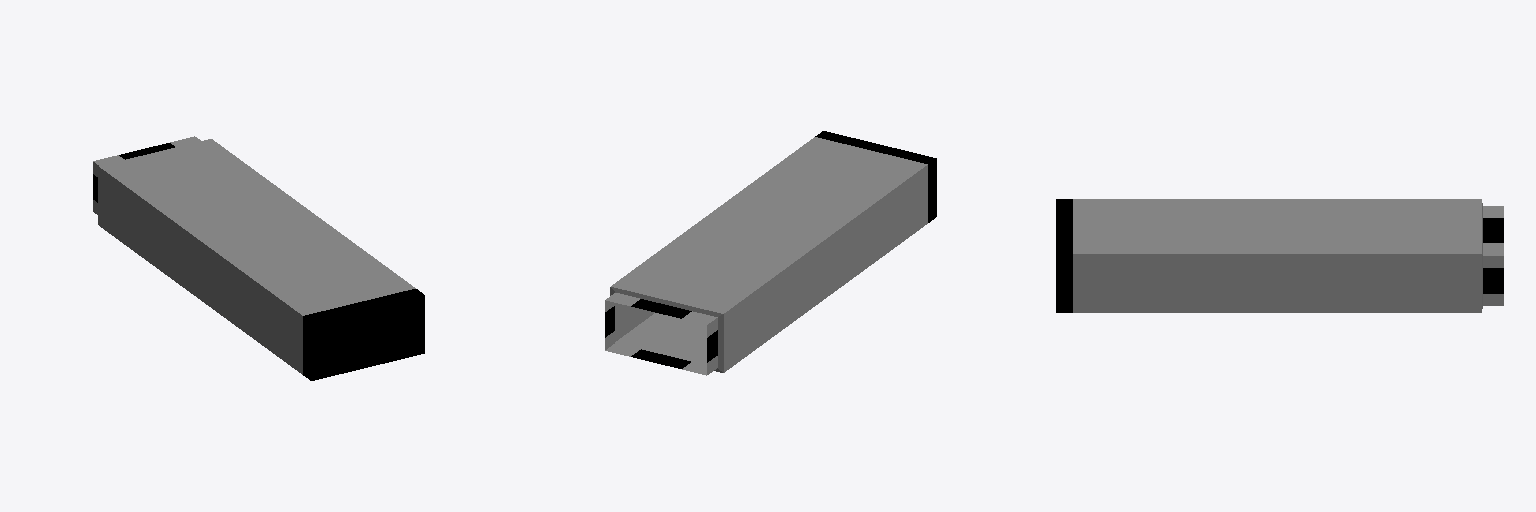
File: skyscraper_windowH_04.obj
3 renders of one model, left to right at view 1: azimuth 30°, elevation 25°; view 2: azimuth 150°, elevation 25°; view 3: azimuth 270°, elevation 25°, orthographic.
Visible parts, largest first — view 1: Object01; view 2: Object01; view 3: Object01.
Part boxes in pixels (bbox=[...]): Object01: bbox=[93, 136, 424, 380]; Object01: bbox=[605, 131, 936, 375]; Object01: bbox=[1056, 199, 1503, 312].
Size of the model in its own units: 40 by 20 by 137.